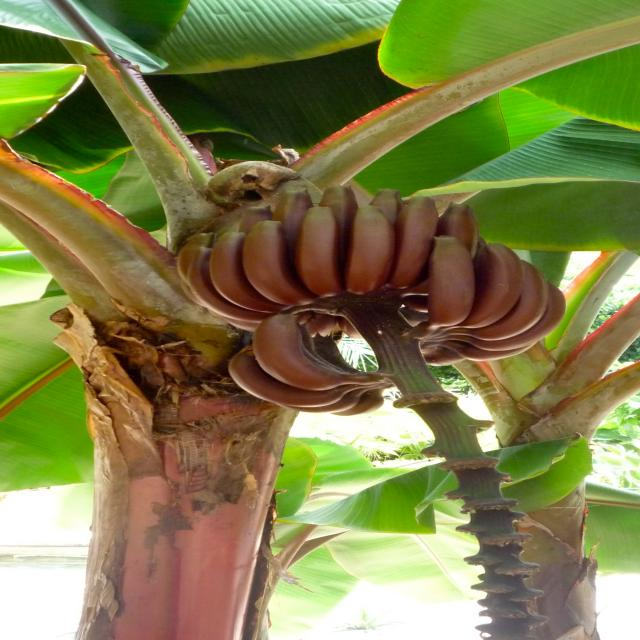banana: (182, 186, 523, 406)
